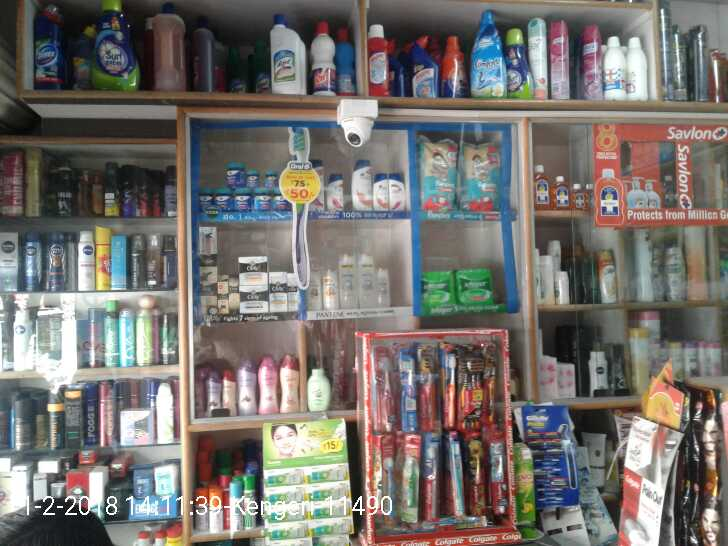beauty: (351, 153, 369, 214), (236, 283, 268, 316), (338, 254, 356, 311), (319, 266, 341, 311), (266, 265, 287, 312), (285, 266, 305, 314), (235, 254, 268, 283), (355, 257, 374, 307), (386, 168, 407, 212), (371, 268, 392, 306), (324, 170, 338, 215), (307, 269, 321, 313), (371, 173, 387, 210), (220, 278, 235, 316)
pharmacy: (416, 136, 464, 215), (460, 140, 502, 210), (222, 163, 282, 190), (202, 194, 289, 211), (458, 266, 496, 302), (418, 273, 452, 306)
